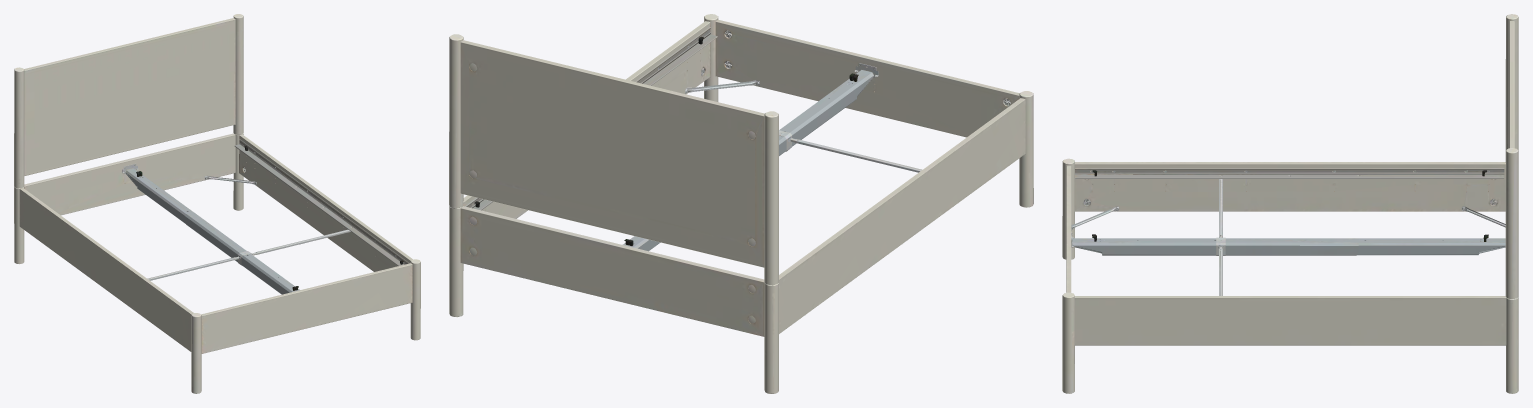
The picture shows the model from 3 angles, left to right: view 1: azimuth 30°, elevation 25°; view 2: azimuth 150°, elevation 25°; view 3: azimuth 270°, elevation 25°; orthographic projection. The views are drawn at different scales.
Visible parts, largest first — view 1: ASY_ART_60603620_S01_NV01; view 2: ASY_ART_60603620_S01_NV01; view 3: ASY_ART_60603620_S01_NV01.
Boxes of the visible parts, x1,y1,x2,y2 form: ASY_ART_60603620_S01_NV01: (14, 14, 420, 393); ASY_ART_60603620_S01_NV01: (449, 14, 1033, 393); ASY_ART_60603620_S01_NV01: (1062, 14, 1518, 393).
Size of the model in its own units: 1.44 by 1.17 by 1.99.
Materials: 1 (1 with a texture image).
